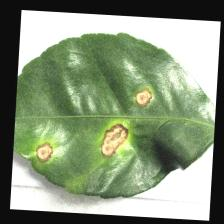canker: (26, 67, 157, 184)
